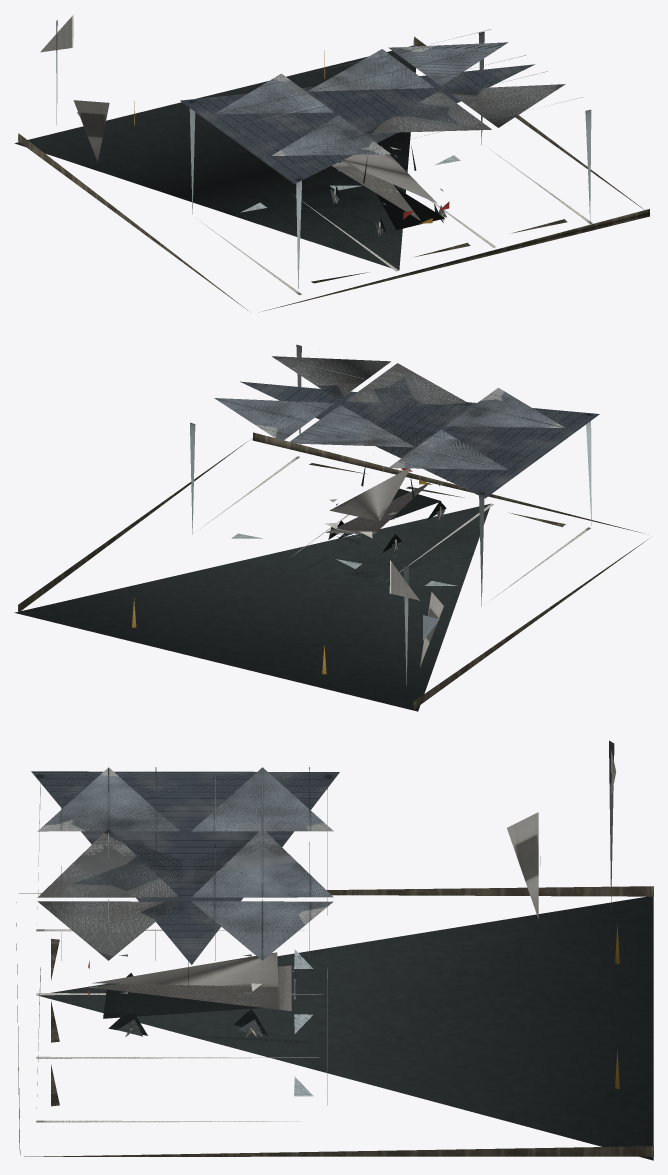
Rendered from parking_002.lod2.obj.
3 renders of one model, top to bottom at view 1: azimuth 30°, elevation 25°; view 2: azimuth 150°, elevation 25°; view 3: azimuth 270°, elevation 25°, orthographic. The views are drawn at different scales.
Parts seen in each view (by area): view 1: parking_002; view 2: parking_002; view 3: parking_002.
Boxes of the visible parts, x1=… form: parking_002: x1=14, y1=15, x2=649, y2=312; parking_002: x1=14, y1=344, x2=647, y2=711; parking_002: x1=16, y1=740, x2=653, y2=1160.
Size of the model in its own units: 10.6 by 3.25 by 10.8.
Materials: 1 (1 with a texture image).
